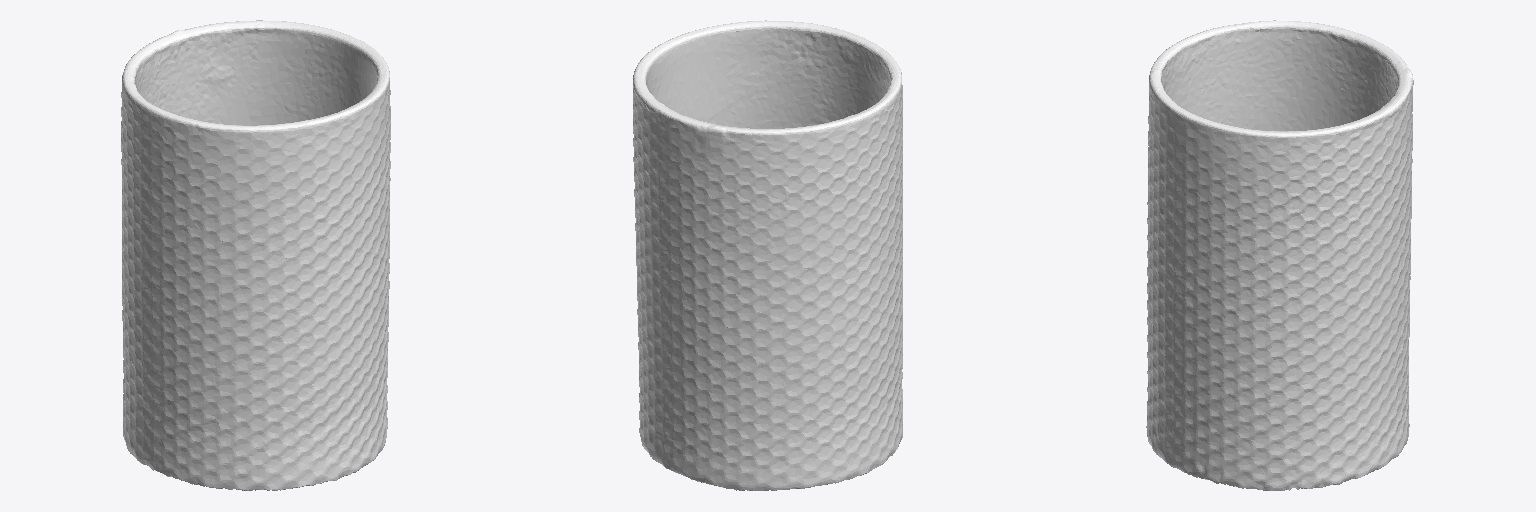
robot.urdf — model.urdf:
<robot name="model.urdf">
    <link name="baseLink">
        <contact>
            <lateral_friction value="0.46"/>
            <rolling_friction value="1"/>
            <spinning_friction value="1"/>
            <contact_cfm value="0.0"/>
            <contact_erp value="1.0"/>
        </contact>
        <inertial>
            <origin rpy="0 0 0" xyz="0.00 0.00 0.0"/>
            <mass value="1.4"/>
            <inertia ixx="1e-3" ixy="0" ixz="0" iyy="1e-3" iyz="0" izz="1e-3"/>
        </inertial>
        <visual>
            <geometry>
                <mesh filename="nontextured.stl" scale="1 1 1"/>
            </geometry>
            <material name="white">
                <color rgba="1 1 1 1"/>
            </material>
        </visual>
        <collision>
            <geometry>
                <mesh filename="nontextured.stl" scale="1 1 1"/>
            </geometry>
        </collision>
    </link>
</robot>

--- Facts derived from the render (not from the file) ---
The picture shows the robot from 3 angles, left to right: view 1: azimuth 30°, elevation 25°; view 2: azimuth 150°, elevation 25°; view 3: azimuth 270°, elevation 25°; orthographic projection.
Robot: model.urdf — 1 links, 0 joints (none); root link baseLink; default pose: every joint at zero.
Links seen in each view (by area): view 1: baseLink; view 2: baseLink; view 3: baseLink.
Link boxes in pixels (bbox=[...]): baseLink: bbox=[121, 20, 390, 490]; baseLink: bbox=[633, 20, 902, 490]; baseLink: bbox=[1146, 20, 1413, 490].
Size in the robot's own frame: 0.1266 by 0.1248 by 0.187 metres.
1 mesh visuals loaded from 1 distinct referenced files (1 binary STL).